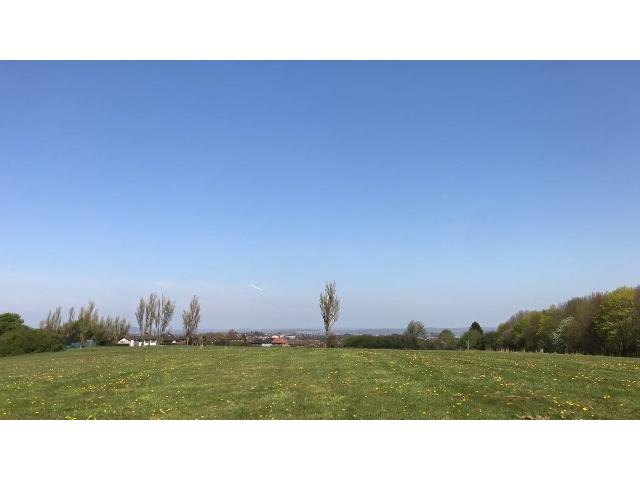Anti-Drone: (238, 274, 272, 301)
